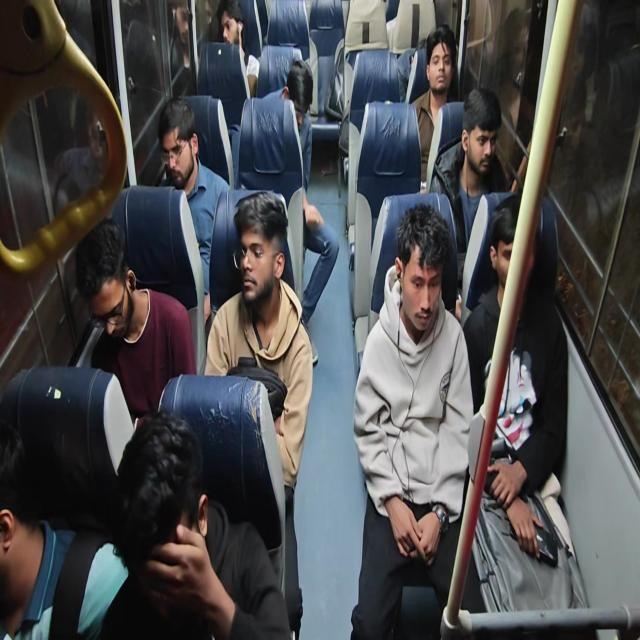person: (350, 202, 475, 638), (461, 195, 579, 613), (204, 190, 313, 637), (100, 408, 293, 639), (0, 422, 129, 639), (75, 216, 196, 429), (278, 58, 339, 366), (156, 96, 230, 322), (428, 86, 509, 252), (410, 24, 460, 190), (52, 106, 108, 210), (280, 58, 314, 188), (216, 0, 260, 99), (169, 4, 195, 97)
